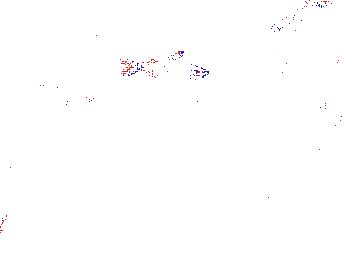red belly glassfish: (154, 48, 186, 62)
redtail glassfish: (265, 1, 339, 33), (120, 57, 211, 83), (30, 80, 98, 109)
